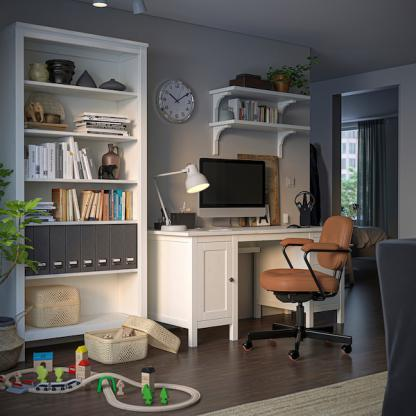chair: (244, 212, 358, 364)
clock: (153, 77, 201, 124)
light: (155, 160, 209, 234)
sofa: (369, 234, 416, 416), (350, 226, 390, 275)
table: (149, 219, 342, 351)
